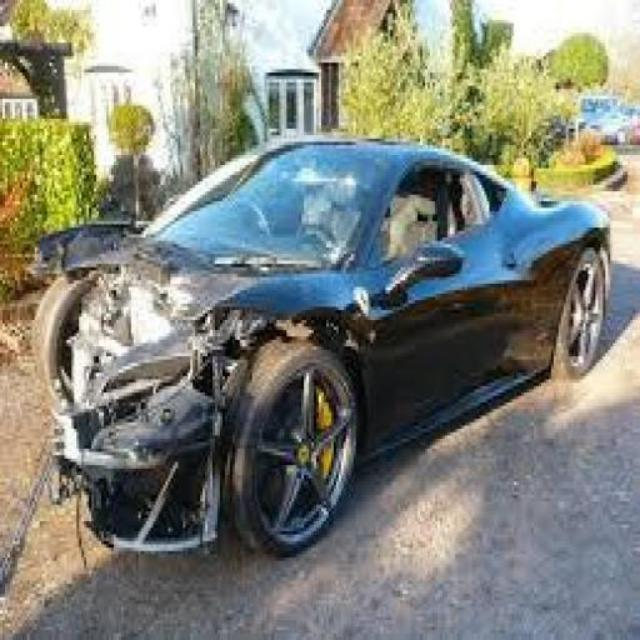crash: (37, 216, 355, 562)
